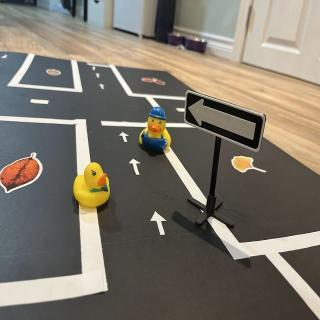duck_regular: (74, 163, 112, 210)
duck_specialty: (138, 106, 172, 158)
road_oneway: (147, 206, 173, 241), (129, 157, 143, 181), (118, 129, 130, 147), (99, 82, 107, 93), (96, 71, 102, 81), (93, 65, 97, 73)
sign_oneway_left: (184, 91, 268, 153)
